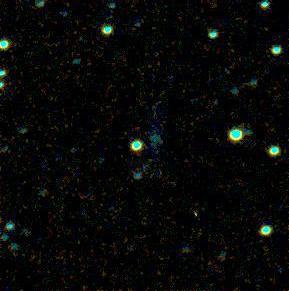star: (184, 208, 214, 238)
